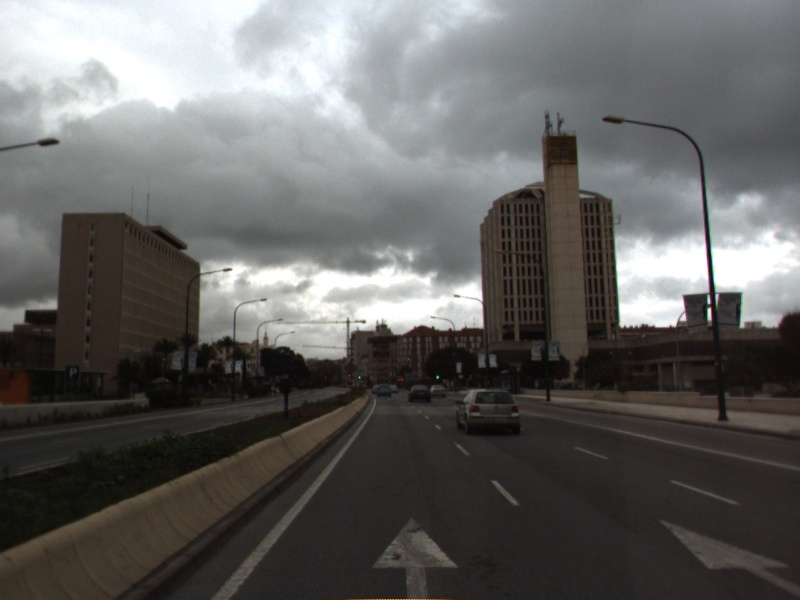STRAIGHT: (652, 514, 800, 596), (366, 513, 464, 600)
